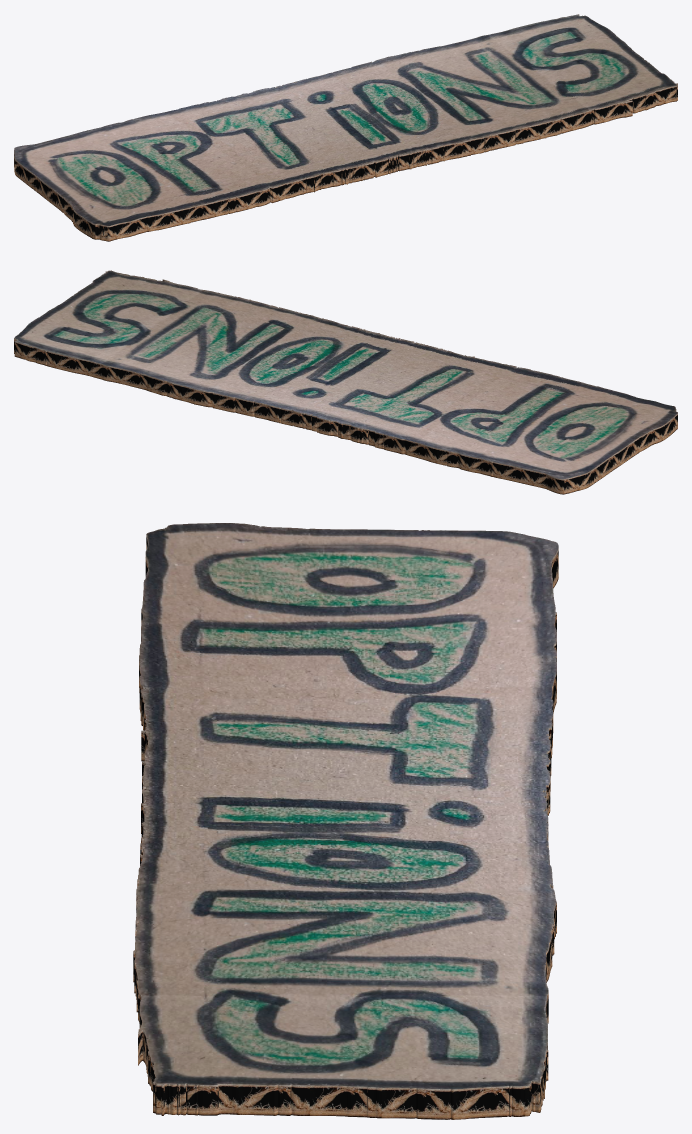
The model's file is Options.fbx.
The picture shows the model from 3 angles, top to bottom: view 1: azimuth 30°, elevation 25°; view 2: azimuth 150°, elevation 25°; view 3: azimuth 270°, elevation 25°; orthographic projection. The views are drawn at different scales.
Parts seen in each view (by area): view 1: options; view 2: options; view 3: options.
Part boxes in pixels (bbox=[...]): options: bbox=[14, 14, 677, 241]; options: bbox=[14, 270, 677, 494]; options: bbox=[133, 523, 558, 1119].
Size of the model in its own units: 3.98 by 0.1 by 1.26.
